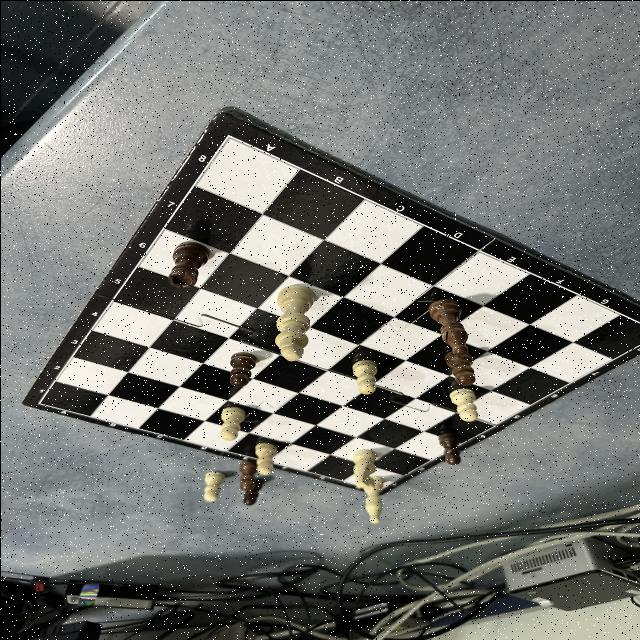Black-Bishop: (430, 298, 468, 356)
Black-Pawn: (442, 348, 472, 384), (228, 352, 256, 387), (438, 431, 461, 463), (237, 458, 255, 489), (243, 478, 260, 506)
Black-Rook: (168, 242, 207, 288)
White-Bishop: (364, 477, 382, 523)
White-King: (274, 284, 313, 360)
White-Knight: (354, 448, 376, 486)
White-Pawn: (448, 387, 478, 421), (353, 358, 377, 394), (220, 406, 243, 440), (254, 441, 276, 473), (202, 470, 222, 500)
